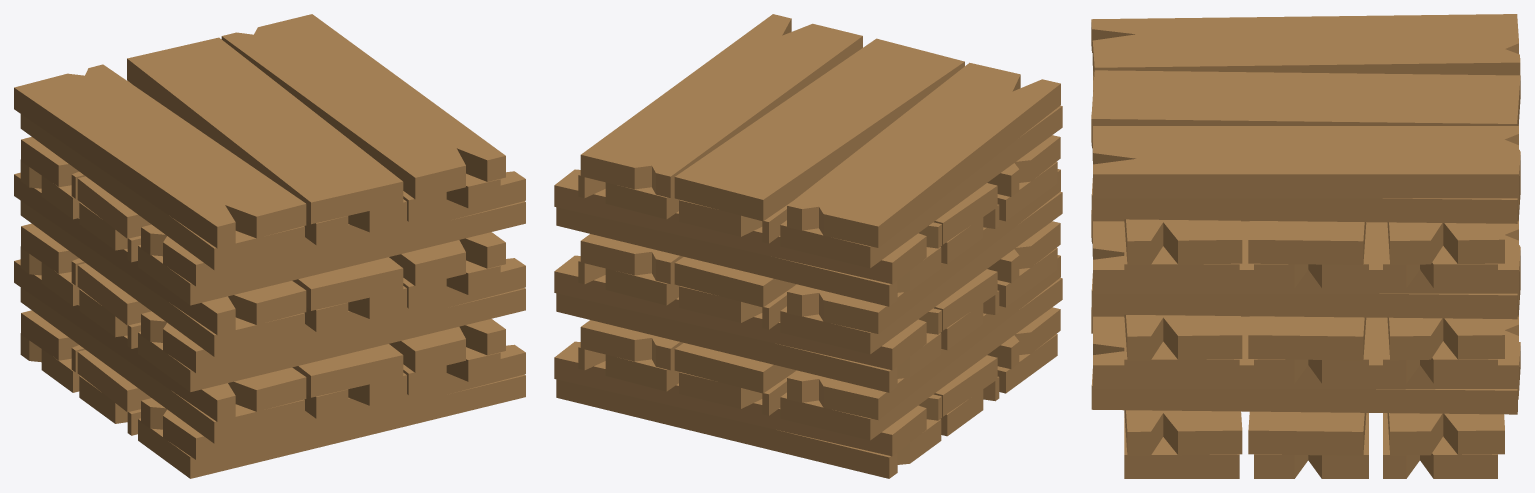
File: SRA_Wood_Plank_Stack_03.glb
3 views of the same model, side by side, from view 1: azimuth 30°, elevation 25°; view 2: azimuth 150°, elevation 25°; view 3: azimuth 270°, elevation 25° (orthographic). The views are drawn at different scales.
Visible parts, largest first — view 1: Wood_Plank_Stack_03; view 2: Wood_Plank_Stack_03; view 3: Wood_Plank_Stack_03.
Part boxes in pixels (x1,y1,x2,y2): Wood_Plank_Stack_03: [14, 14, 525, 478]; Wood_Plank_Stack_03: [554, 14, 1062, 478]; Wood_Plank_Stack_03: [1091, 14, 1520, 478].
Bounding box in the file's own units: 0.9217 × 0.6776 × 0.9217.
Materials: 1 (1 with a texture image).
